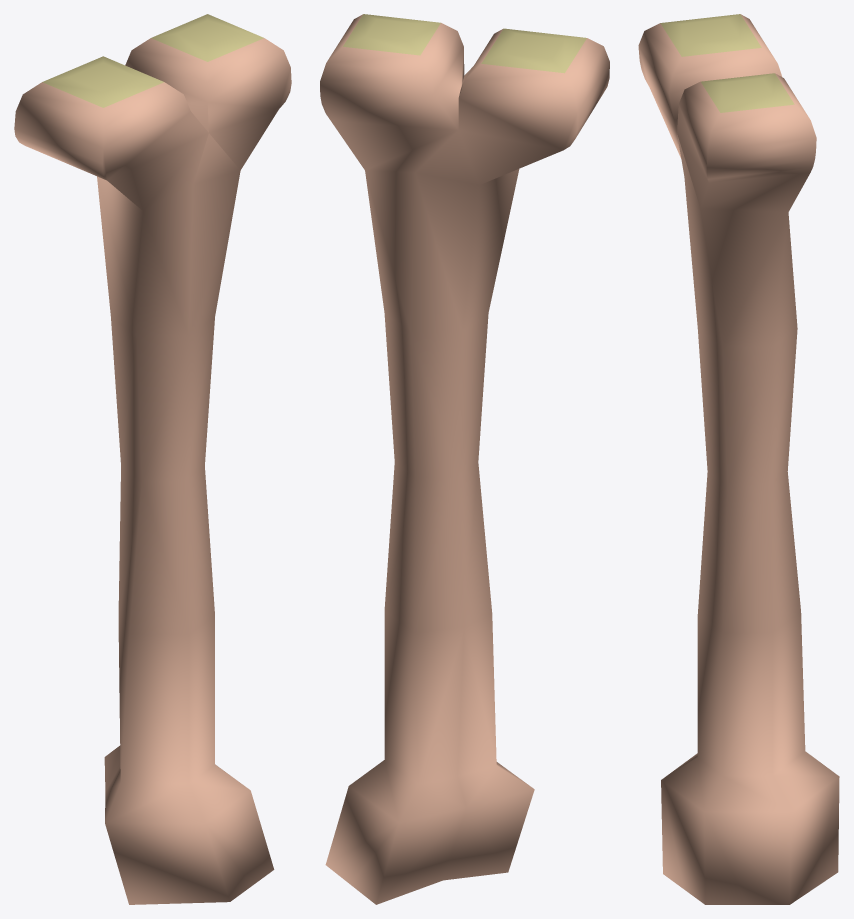
The model's file is bone.fbx.
3 views of the same model, side by side, from view 1: azimuth 30°, elevation 25°; view 2: azimuth 150°, elevation 25°; view 3: azimuth 270°, elevation 25° (orthographic). The views are drawn at different scales.
Visible parts, largest first — view 1: Cylinder; view 2: Cylinder; view 3: Cylinder.
Boxes of the visible parts, x1,y1,x2,y2 form: Cylinder: [14, 14, 291, 904]; Cylinder: [320, 14, 609, 904]; Cylinder: [638, 14, 839, 904].
Bounding box in the file's own units: 88.33 × 279 × 63.7.
